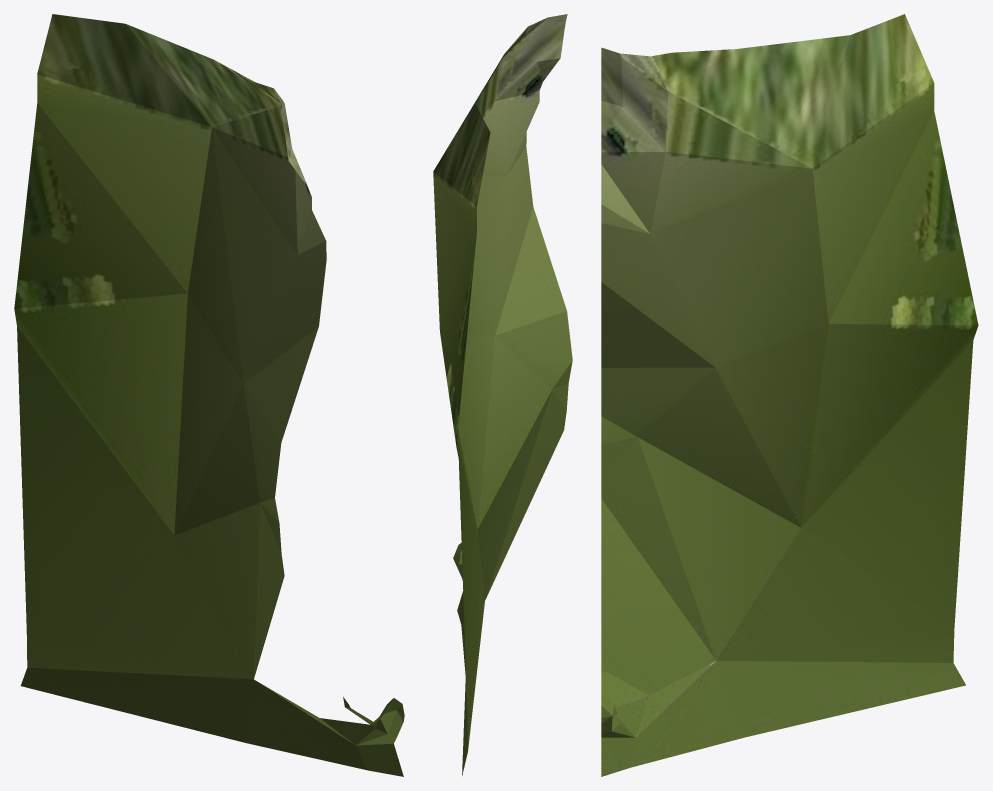
The picture shows the model from 3 angles, left to right: view 1: azimuth 30°, elevation 25°; view 2: azimuth 150°, elevation 25°; view 3: azimuth 270°, elevation 25°; orthographic projection. The views are drawn at different scales.
Bounding box in the file's own units: 0.866 × 2.95 × 1.5.
2 materials, 2 textured.
